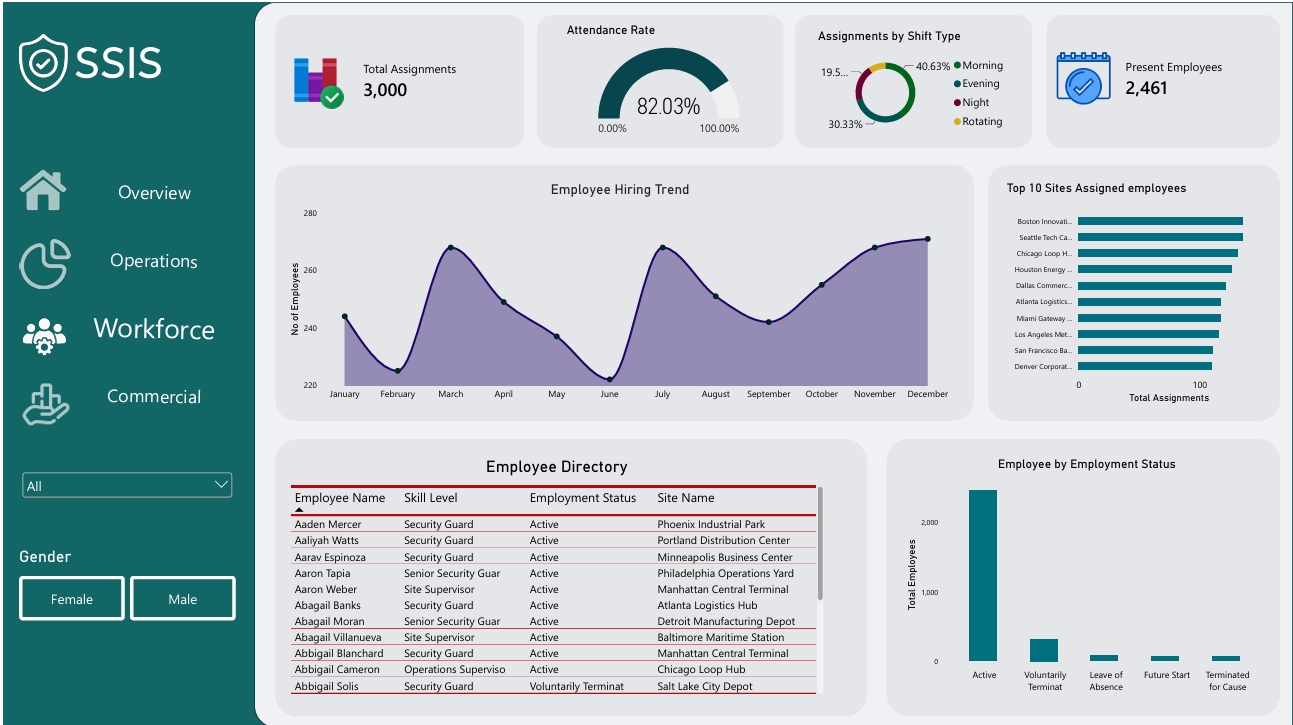

This screenshot's page, from the dashboard's own definition file:
{"tool":"powerbi","page":{"name":"Workforce","canvas":[1280,720],"ordinal":1},"visuals":[{"type":"textbox","box":[420.2,11.8,855.2,64.7],"z":0},{"type":"actionButton","box":[26.4,602.4,175.4,58.9],"z":0,"group":"g4"},{"type":"shape","box":[9.2,11.8,205.5,696.4],"z":1000},{"type":"image","box":[26.4,602.4,38,58.9],"z":1000,"group":"g4"},{"type":"textbox","box":[30.1,27.5,166.3,61.5],"z":2000},{"type":"actionButton","box":[22,395.3,174.1,58.9],"z":2000,"group":"g2"},{"type":"group","id":"g1","title":"Group 1","box":[22,301.2,176.3,58.8],"z":3000},{"type":"actionButton","box":[22,301.2,176.7,58.9],"z":3000,"group":"g1"},{"type":"group","id":"g2","title":"Group 2","box":[22,395.3,173.4,58.8],"z":4000},{"type":"group","id":"g3","title":"Group 3","box":[26.4,502.5,174.9,60.2],"z":5000},{"type":"actionButton","box":[26.4,502.7,175.4,60.2],"z":5000,"group":"g3"},{"type":"group","id":"g4","title":"Group 4","box":[26.4,602.4,174.9,58.8],"z":6000},{"type":"image","box":[23.3,395.3,37.4,58.9],"z":6001,"group":"g2"},{"type":"image","box":[27.8,502.5,37.7,58.9],"z":6002,"group":"g3"},{"type":"image","box":[22,301.2,39.3,58.9],"z":6004,"group":"g1"},{"type":"group","id":"g5","title":"Group 5","box":[221.4,86.7,212.3,101],"z":7000},{"type":"cardVisual","title":"Present Employees","fields":{"Data":["ssis attendance.Present Employees"]},"box":[454,86.7,191.6,98],"z":7000,"group":"g8"},{"type":"cardVisual","title":"Total Assignments","fields":{"Data":["ssis employee_assignment.Total Assignments"]},"box":[221.4,88.2,212.3,99.5],"z":7000,"group":"g7"},{"type":"cardVisual","title":"Attendance Rate","fields":{"Data":["ssis attendance.Attendance Rate"]},"box":[668.6,91.1,198.4,94],"z":7000,"group":"g9"},{"type":"group","id":"g6","title":"Group 7","box":[454,85.2,186.6,98.4],"z":8000},{"type":"group","id":"g7","title":"Group 2","box":[221.4,88.2,212.3,99.5],"z":8000,"group":"g5"},{"type":"group","id":"g8","title":"Group 2","box":[454,86.7,186.7,97.2],"z":9000,"group":"g6"},{"type":"clusteredColumnChart","title":"Employee by Employment Status","fields":{"Category":["ssis employee.employment_status"],"Y":["CountNonNull(ssis employee.employee_name)"]},"box":[874.5,454.3,400.6,254],"z":9000},{"type":"donutChart","title":"Assignments by Shift Type","fields":{"Category":["ssis employee_assignment.shift_type"],"Y":["CountNonNull(ssis employee_assignment.assignment_id)"]},"box":[227.8,454.3,329.9,254],"z":10000},{"type":"image","box":[668.6,91.1,55.8,94],"z":11000,"group":"g9"},{"type":"clusteredBarChart","title":"Top 10 Sites Assigned employees","fields":{"Category":["ssis site.site_name"],"Y":["CountNonNull(ssis employee_assignment.assignment_id)"]},"box":[878.7,94,396.7,352.7],"z":11000},{"type":"image","box":[227.3,86.7,82.6,98.7],"z":11001,"group":"g5"},{"type":"image","box":[459.6,85.2,53.9,97.2],"z":11002,"group":"g6"},{"type":"tableEx","title":"Employee Directory","fields":{"Values":["ssis employee.employee_name","ssis employee.skill_level","ssis employee.employment_status","ssis site.site_name"]},"box":[230.4,197.7,636.2,243.5],"z":12000},{"type":"lineChart","title":"Employee Hiring Trend","fields":{"Category":["ssis employee.hire_date.Variation.Date Hierarchy.Year","ssis employee.hire_date.Variation.Date Hierarchy.Month"],"Y":["CountNonNull(ssis employee.employee_id)"]},"box":[566.8,454.3,299.8,254],"z":13000},{"type":"textbox","box":[227.8,27.9,158.7,48.5],"z":14000},{"type":"image","box":[29.4,94,166,173.4],"z":15000},{"type":"group","id":"g9","title":"Group 6","box":[668.6,91.1,198.4,94],"z":16000}]}

Visuals, with their boxes on the page's 1280x720 design canvas (x1, y1, x2, y2). These are canvas units, not pixel positions in the 1293x725 screenshot, which may show the page scaled, cropped or inside an application window:
textbox: rect(420, 12, 1275, 76)
actionButton: rect(26, 602, 202, 661)
shape: rect(9, 12, 215, 708)
image: rect(26, 602, 64, 661)
textbox: rect(30, 28, 196, 89)
actionButton: rect(22, 395, 196, 454)
"Group 1" group: rect(22, 301, 198, 360)
actionButton: rect(22, 301, 199, 360)
"Group 2" group: rect(22, 395, 195, 454)
"Group 3" group: rect(26, 502, 201, 563)
actionButton: rect(26, 503, 202, 563)
"Group 4" group: rect(26, 602, 201, 661)
image: rect(23, 395, 61, 454)
image: rect(28, 502, 66, 561)
image: rect(22, 301, 61, 360)
"Group 5" group: rect(221, 87, 434, 188)
"Present Employees" cardVisual: rect(454, 87, 646, 185)
"Total Assignments" cardVisual: rect(221, 88, 434, 188)
"Attendance Rate" cardVisual: rect(669, 91, 867, 185)
"Group 7" group: rect(454, 85, 641, 184)
"Group 2" group: rect(221, 88, 434, 188)
"Group 2" group: rect(454, 87, 641, 184)
"Employee by Employment Status" clusteredColumnChart: rect(874, 454, 1275, 708)
"Assignments by Shift Type" donutChart: rect(228, 454, 558, 708)
image: rect(669, 91, 724, 185)
"Top 10 Sites Assigned employees" clusteredBarChart: rect(879, 94, 1275, 447)
image: rect(227, 87, 310, 185)
image: rect(460, 85, 514, 182)
"Employee Directory" tableEx: rect(230, 198, 867, 441)
"Employee Hiring Trend" lineChart: rect(567, 454, 867, 708)
textbox: rect(228, 28, 386, 76)
image: rect(29, 94, 195, 267)
"Group 6" group: rect(669, 91, 867, 185)
